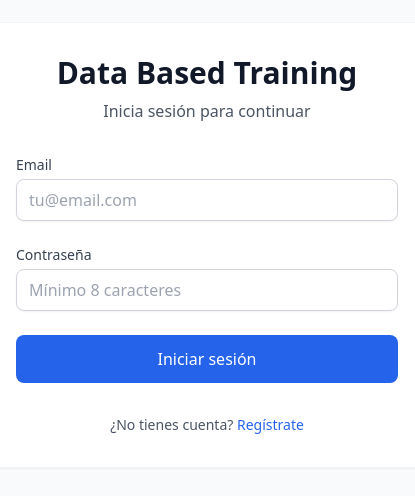
Scenario: LoginRegister › switches to register mode when clicking "Regístrate"
Click the button "Regístrate" at point(270, 425), box x1=237 y1=415 x2=304 y2=435
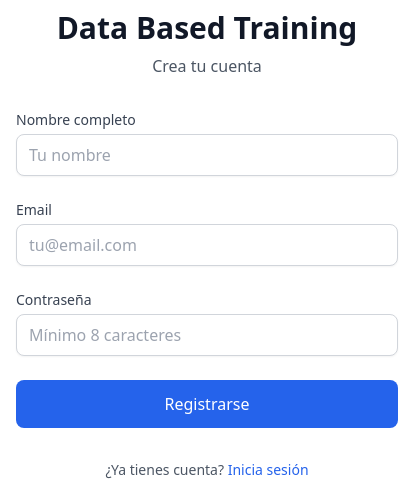
Result: the text "Crea tu cuenta" is shown at x1=152 y1=55 x2=262 y2=77
Result: the field labelled "Nombre completo" is shown at x1=16 y1=134 x2=398 y2=176
Result: the button "Registrarse" is shown at x1=16 y1=380 x2=398 y2=428
